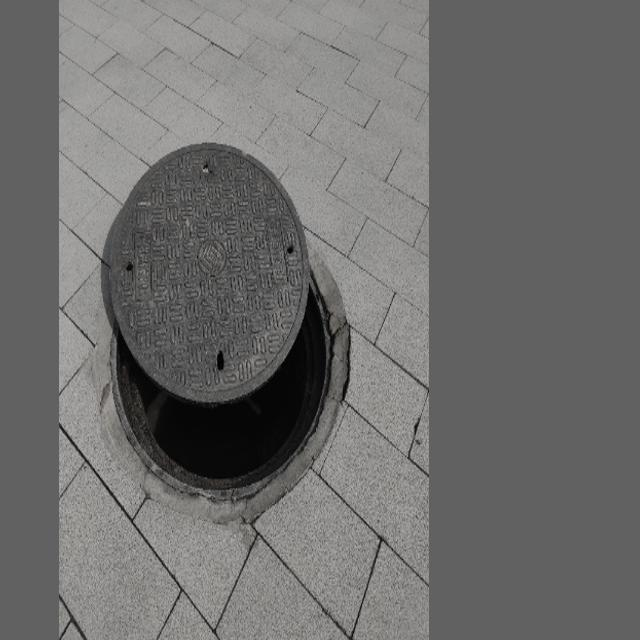uncovered: (110, 142, 333, 494)
